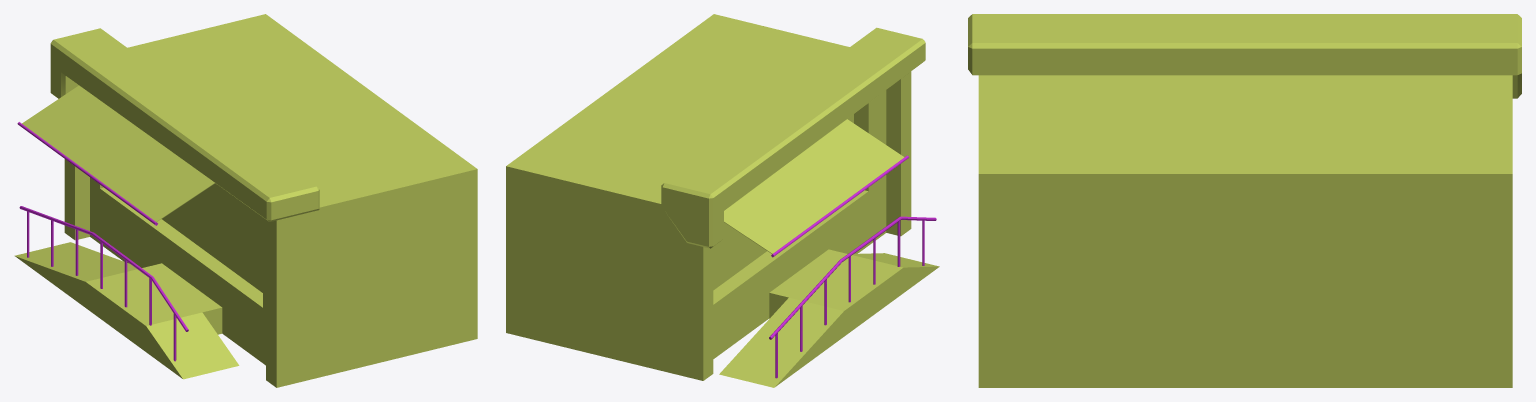
Rendered from tienda.FBX.
The picture shows the model from 3 angles, left to right: view 1: azimuth 30°, elevation 25°; view 2: azimuth 150°, elevation 25°; view 3: azimuth 270°, elevation 25°; orthographic projection. The views are drawn at different scales.
Visible parts, largest first — view 1: Box004; view 2: Box004; view 3: Box004.
Part boxes in pixels (<box>): Box004: <box>14,14,477,387</box>; Box004: <box>506,14,939,387</box>; Box004: <box>968,14,1521,387</box>.
Size of the model in its own units: 87.68 by 61.99 by 127.
